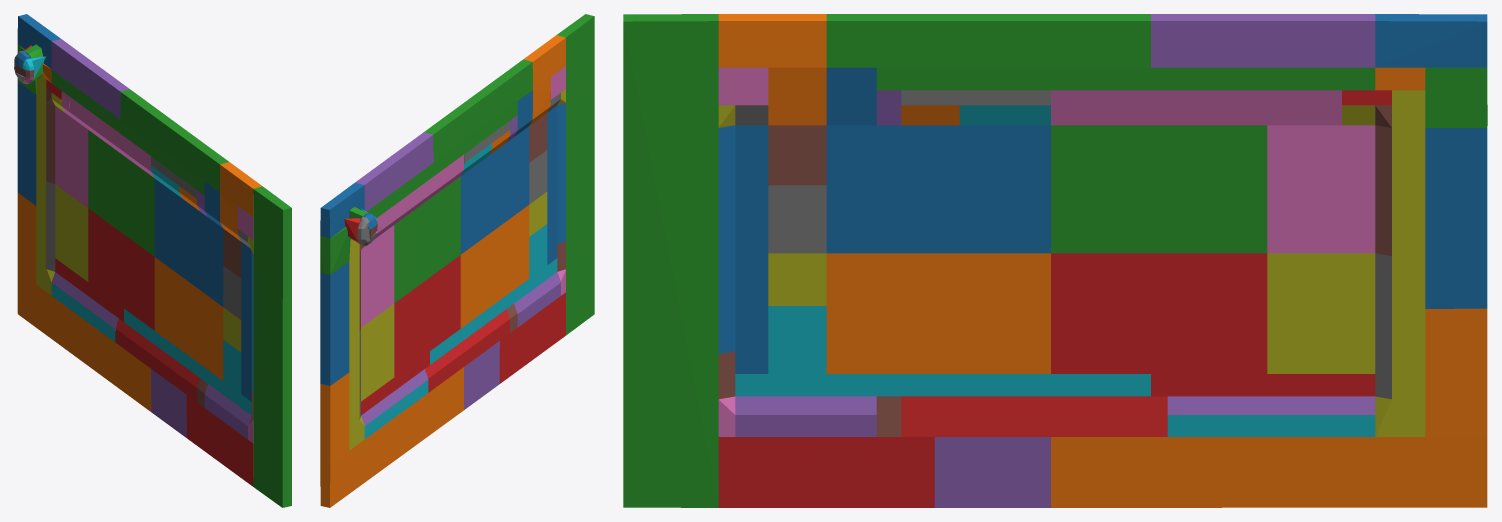
Rendered from Door_12_cvx.obj.
The picture shows the model from 3 angles, left to right: view 1: azimuth 30°, elevation 25°; view 2: azimuth 150°, elevation 25°; view 3: azimuth 270°, elevation 25°; orthographic projection. The views are drawn at different scales.
Visible parts, largest first — view 1: scenes/apartment_0000_coacd/output/Unknown/Kitchen_Extractor/Doo; view 2: scenes/apartment_0000_coacd/output/Unknown/Kitchen_Extractor/Doo; view 3: scenes/apartment_0000_coacd/output/Unknown/Kitchen_Extractor/Doo.
Boxes of the visible parts, x1,y1,x2,y2 form: scenes/apartment_0000_coacd/output/Unknown/Kitchen_Extractor/Doo: (14,14,291,507); scenes/apartment_0000_coacd/output/Unknown/Kitchen_Extractor/Doo: (320,14,594,507); scenes/apartment_0000_coacd/output/Unknown/Kitchen_Extractor/Doo: (623,14,1487,507).
Bounding box in the file's own units: 0.0653 × 0.584 × 0.9402.
